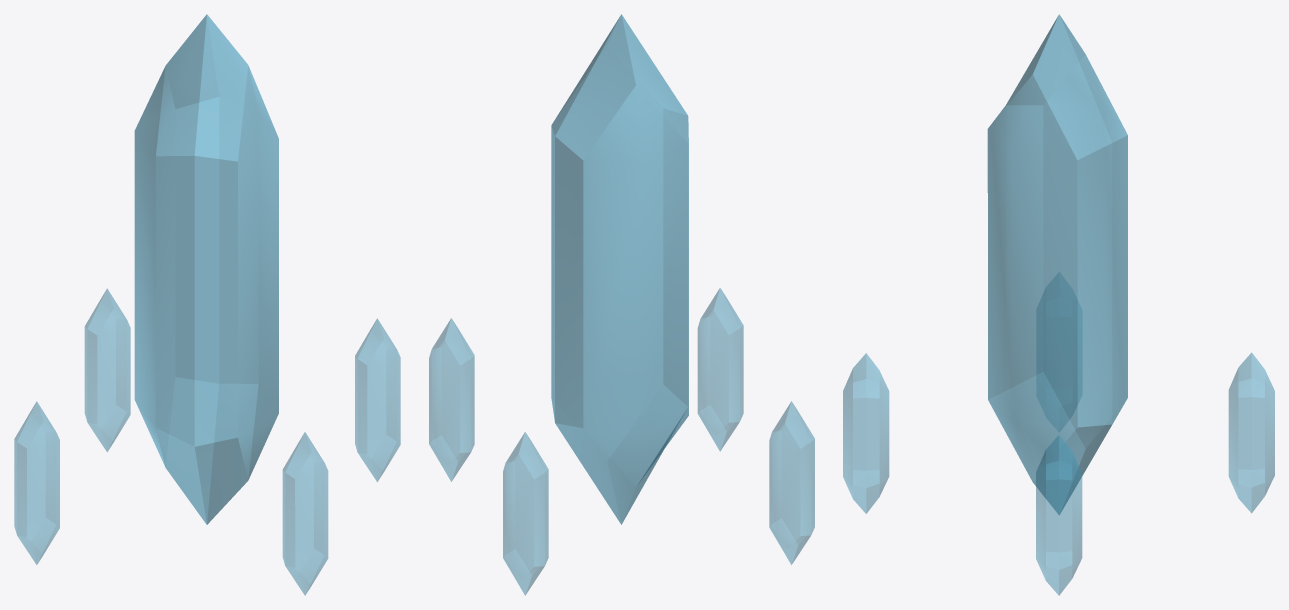
Rendered from cycstal.FBX.
The picture shows the model from 3 angles, left to right: view 1: azimuth 30°, elevation 25°; view 2: azimuth 150°, elevation 25°; view 3: azimuth 270°, elevation 25°; orthographic projection.
Visible parts, largest first — view 1: Line001, Line003, Line005, Line004, Line002; view 2: Line001, Line005, Line004, Line002, Line003; view 3: Line001, Line002, Line003, Line005.
Part boxes in pixels (left/top/right/bottom): Line001: left=134, top=14, right=278, bottom=524; Line003: left=84, top=288, right=130, bottom=451; Line005: left=282, top=432, right=328, bottom=595; Line004: left=14, top=401, right=59, bottom=564; Line002: left=355, top=318, right=400, bottom=481; Line001: left=551, top=14, right=688, bottom=524; Line005: left=697, top=288, right=743, bottom=451; Line004: left=769, top=401, right=814, bottom=564; Line002: left=429, top=318, right=474, bottom=481; Line003: left=503, top=432, right=548, bottom=595; Line001: left=987, top=14, right=1127, bottom=515; Line002: left=1036, top=435, right=1082, bottom=595; Line003: left=1228, top=352, right=1274, bottom=513; Line005: left=843, top=353, right=889, bottom=513.
Size of the model in its own units: 44.54 by 57.27 by 44.67.
